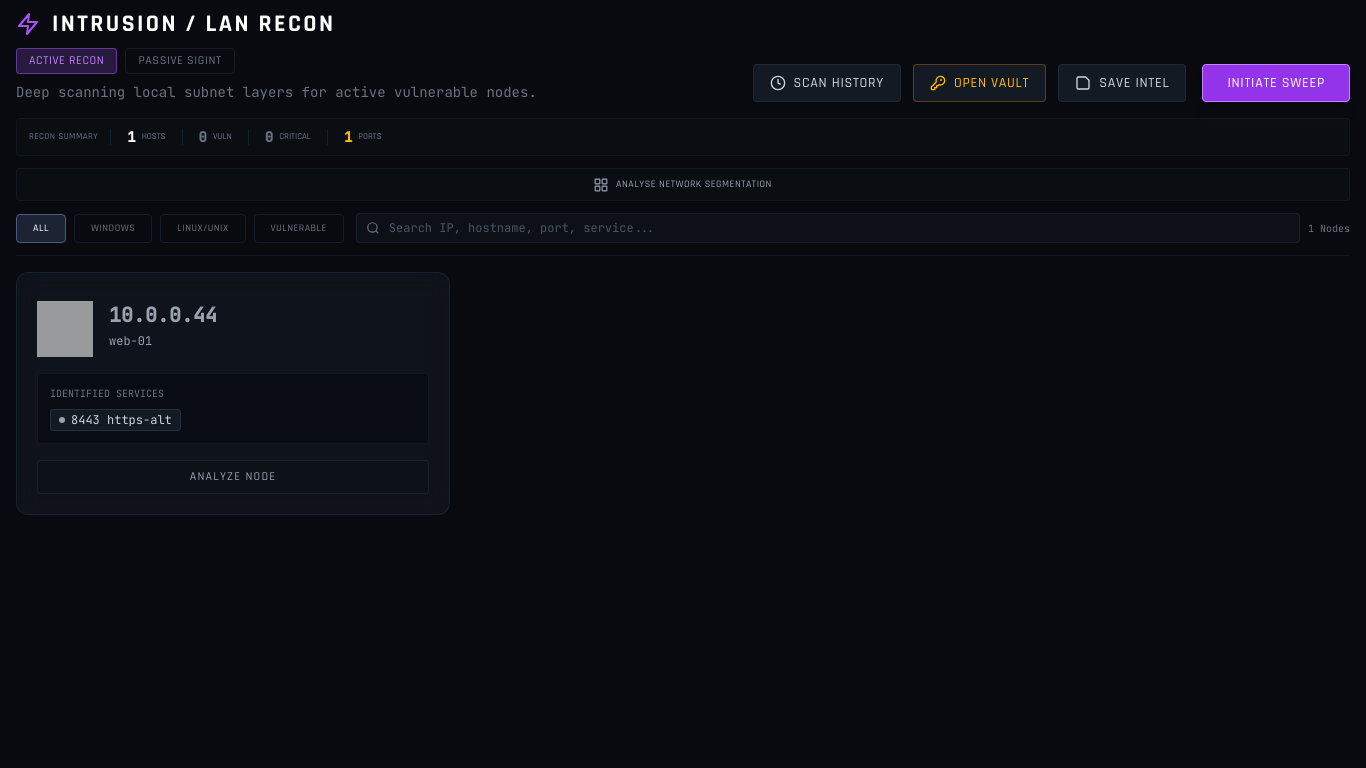
the TLS inspection control › is offered for an implicit-TLS port that is not 443
Click the button "Analyze Node".
click(233, 477)  # box left=37, top=460, right=429, bottom=494
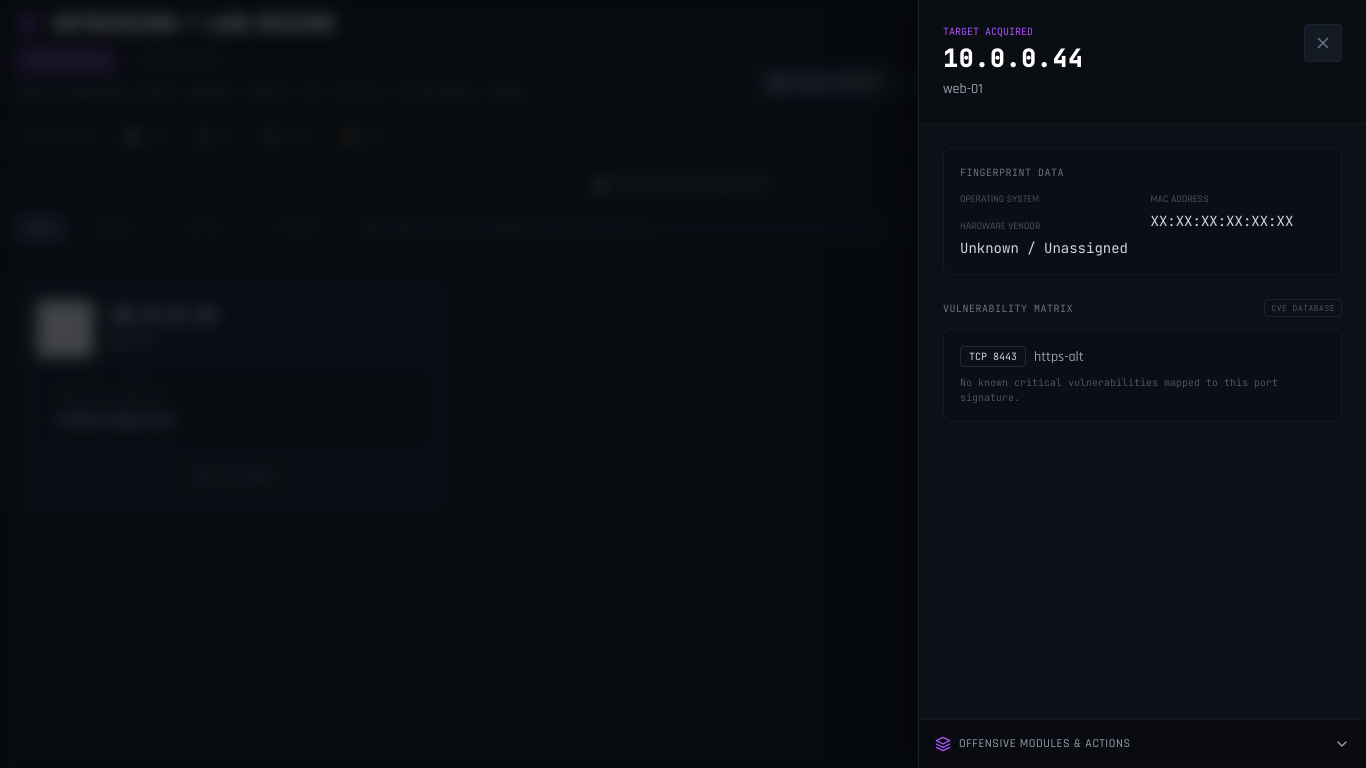
Click the button "OFFENSIVE MODULES & ACTIONS".
click(1045, 744)  # box left=919, top=720, right=1365, bottom=767
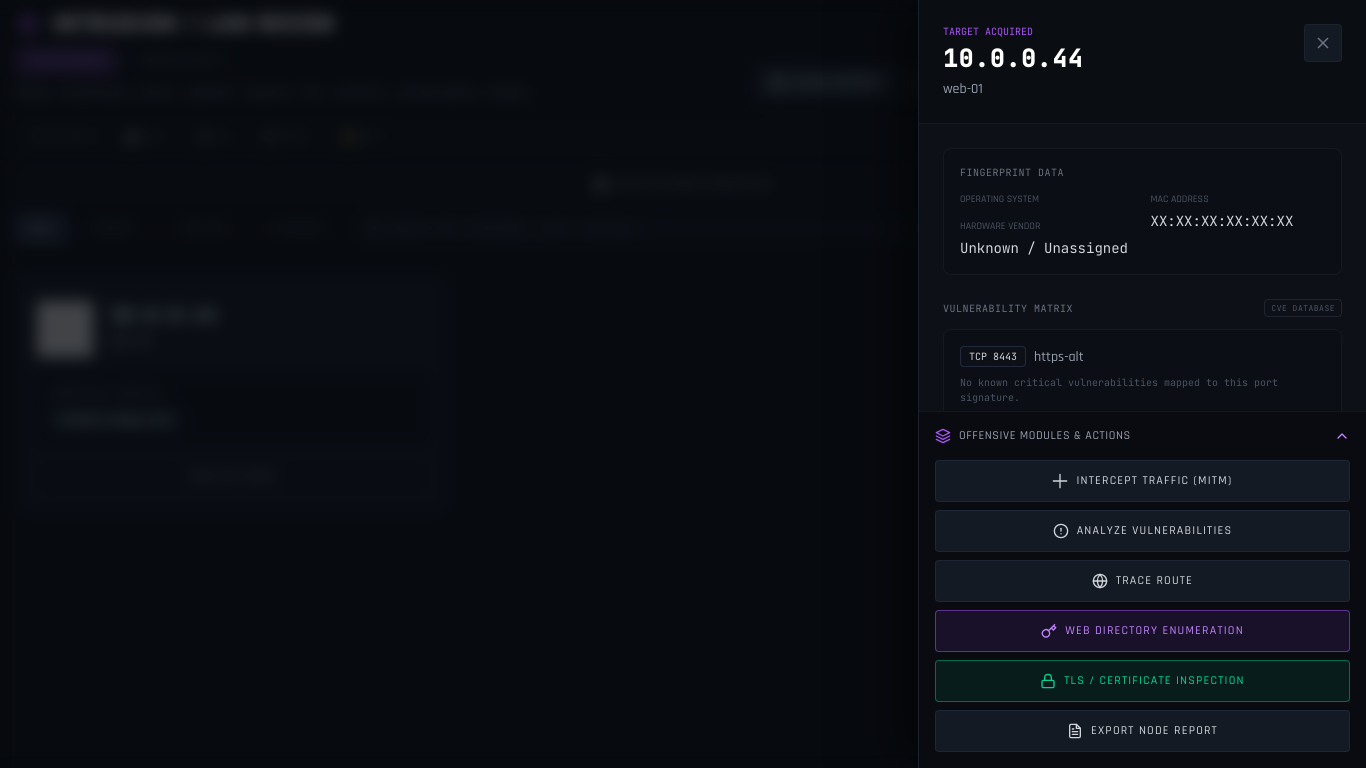
Expected: the button "TLS / CERTIFICATE INSPECTION" is shown, left=935, top=660, right=1350, bottom=702
